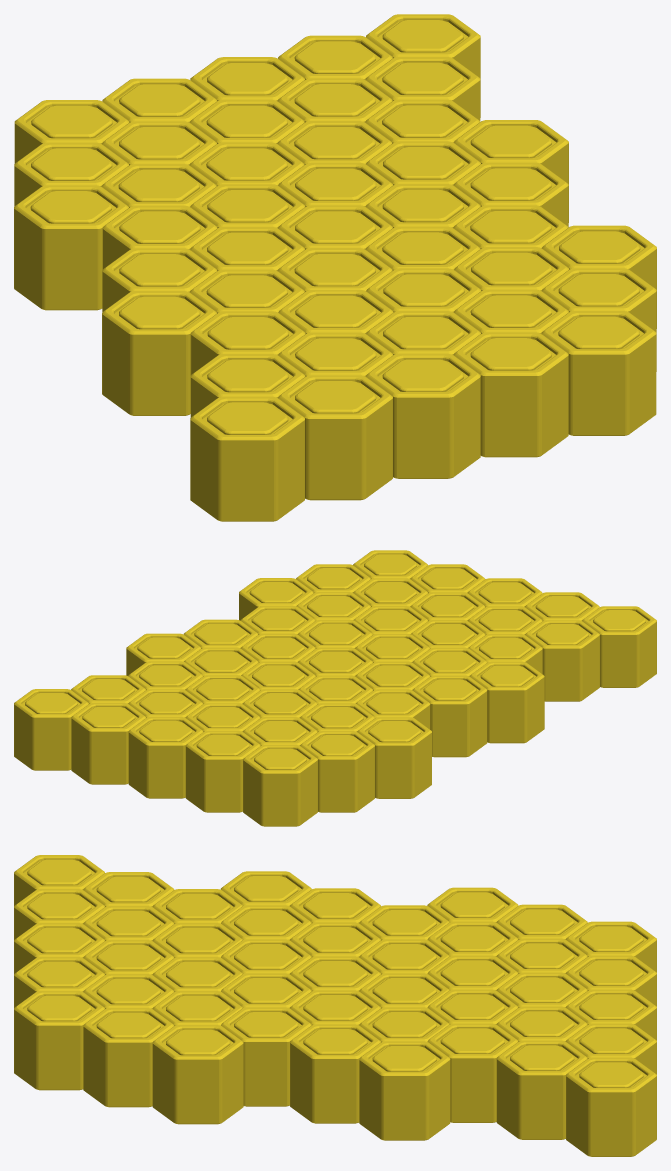
Rendered from Plate_Sota_Hony.fbx.
3 renders of one model, top to bottom at view 1: azimuth 30°, elevation 25°; view 2: azimuth 150°, elevation 25°; view 3: azimuth 270°, elevation 25°, orthographic. The views are drawn at different scales.
Parts seen in each view (by area): view 1: Cylinder.001; view 2: Cylinder.001; view 3: Cylinder.001.
Boxes of the visible parts, x1,y1,x2,y2 form: Cylinder.001: [14, 14, 656, 521]; Cylinder.001: [14, 550, 656, 826]; Cylinder.001: [14, 855, 656, 1156].
Bounding box in the file's own units: 1206 × 160 × 1384.
